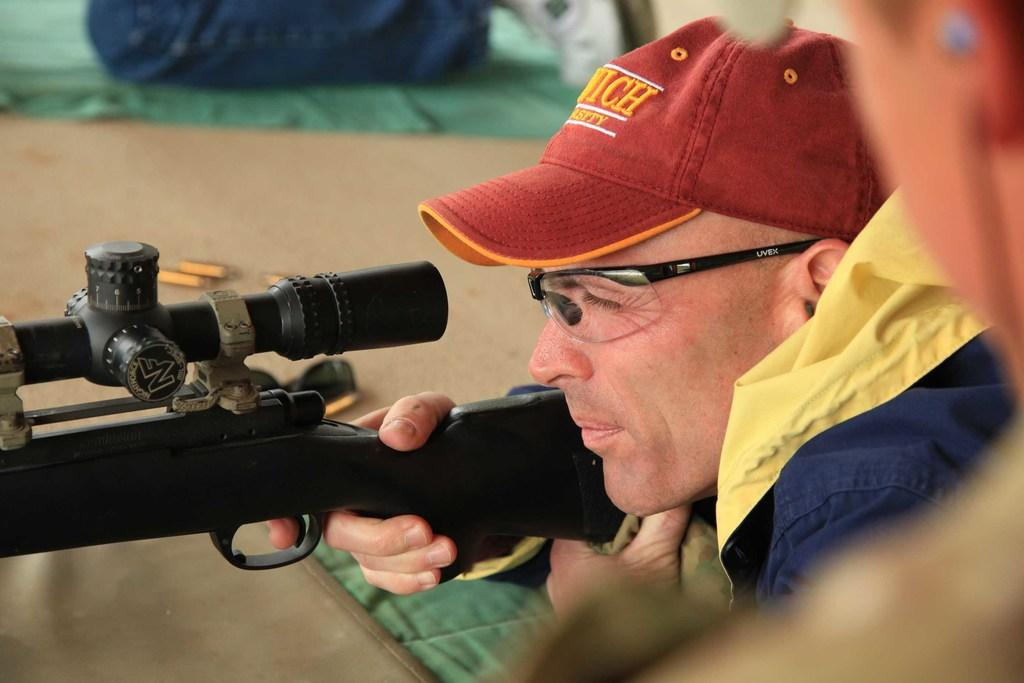Rifle: (0, 239, 627, 536)
